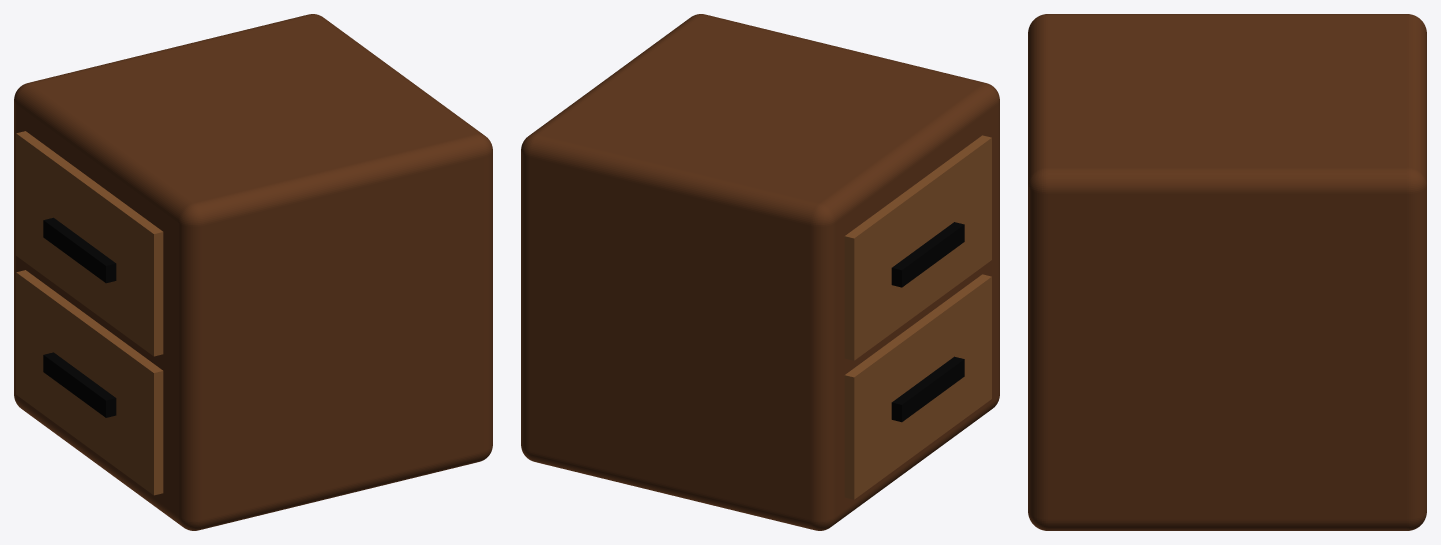
File: square.fbx
The picture shows the model from 3 angles, left to right: view 1: azimuth 30°, elevation 25°; view 2: azimuth 150°, elevation 25°; view 3: azimuth 270°, elevation 25°; orthographic projection. The views are drawn at different scales.
Parts seen in each view (by area): view 1: Cube, Cube.001, Cube.002, Cube.004, Cube.003; view 2: Cube, Cube.001, Cube.002, Cube.003, Cube.004; view 3: Cube.
Boxes of the visible parts, x1,y1,x2,y2 form: Cube: (14, 14, 492, 530); Cube.001: (16, 131, 163, 356); Cube.002: (16, 270, 163, 495); Cube.004: (43, 217, 116, 283); Cube.003: (43, 352, 116, 417); Cube: (521, 14, 999, 530); Cube.001: (844, 135, 991, 360); Cube.002: (844, 274, 991, 499); Cube.003: (891, 356, 964, 422); Cube.004: (891, 222, 964, 287); Cube: (1028, 14, 1426, 530).
Size of the model in its own units: 213 by 200 by 200.
